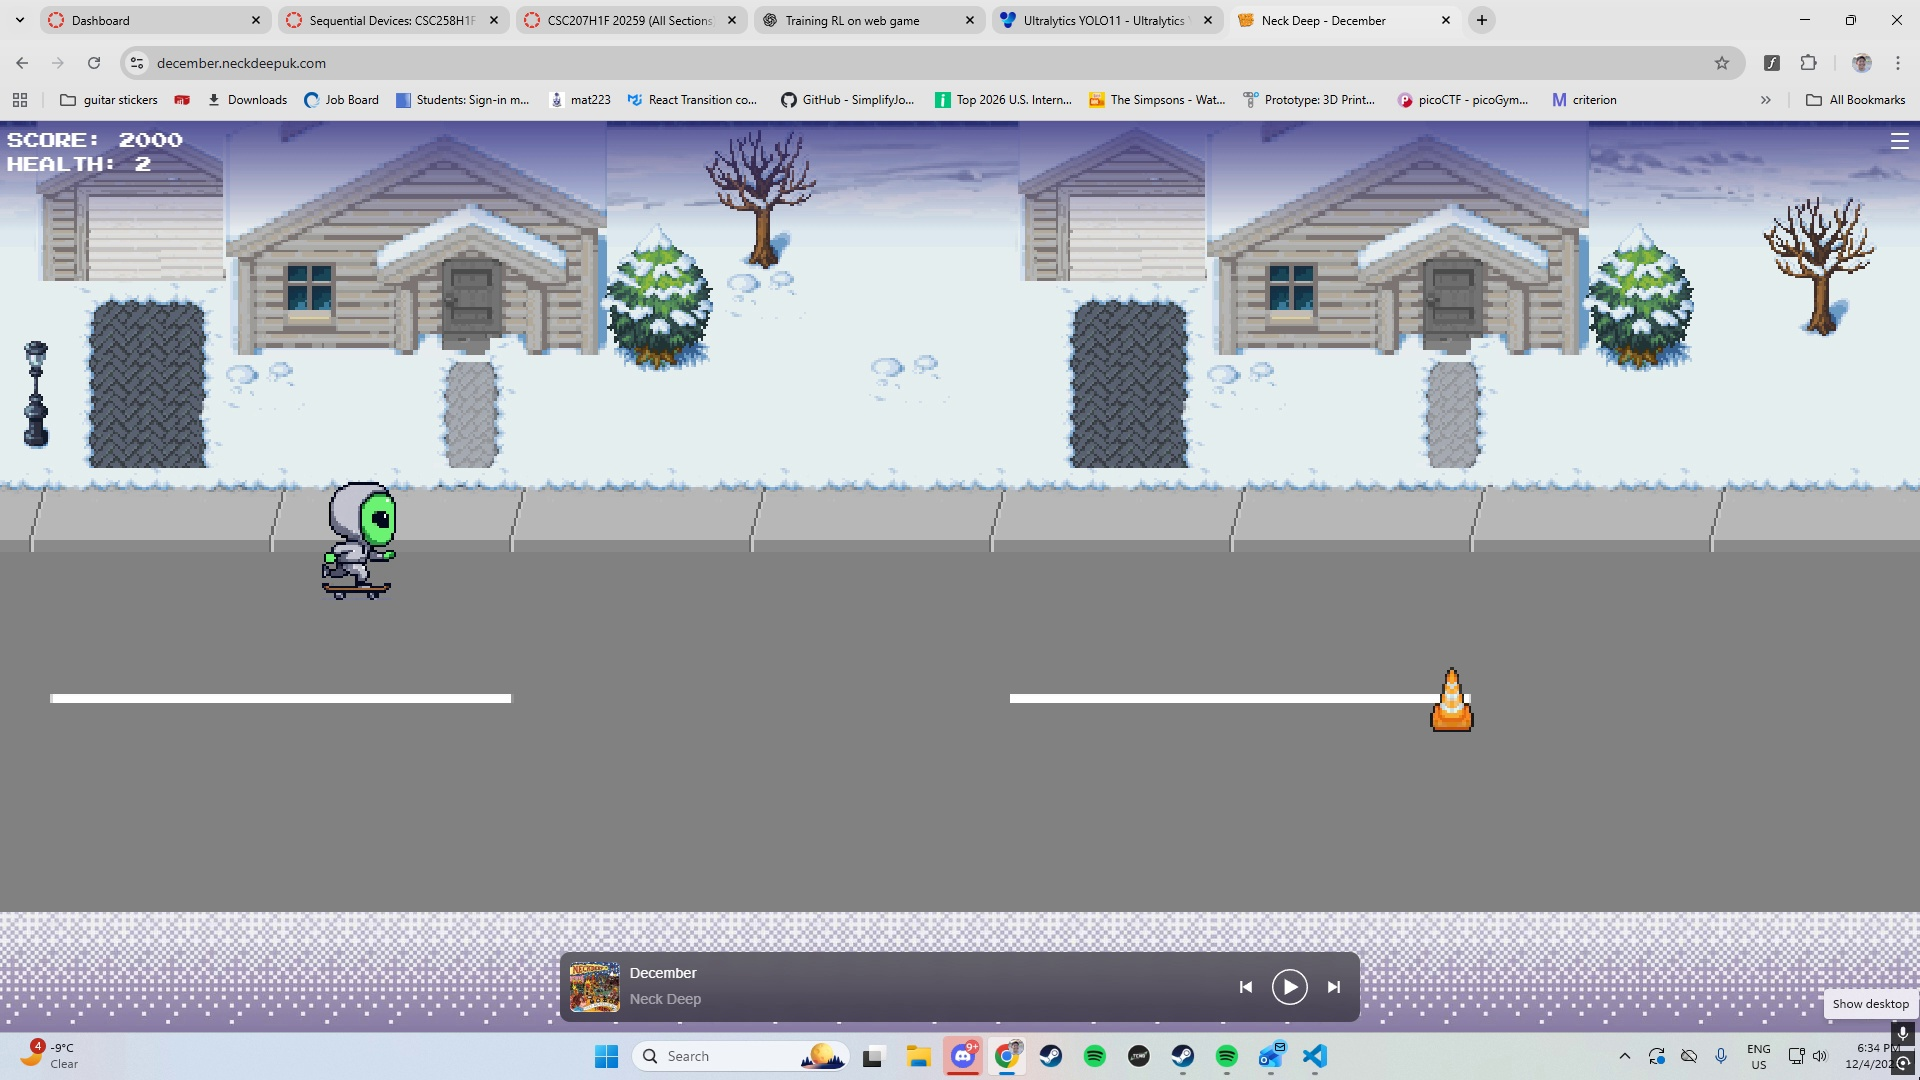Cone: (1421, 662, 1483, 741)
Player: (314, 476, 404, 606)
